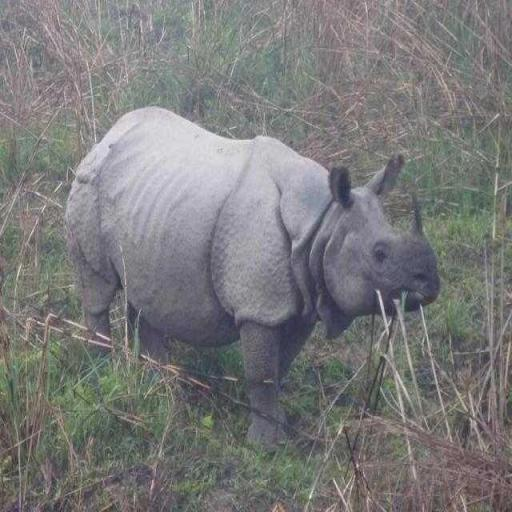Rhino: (63, 104, 441, 450)
